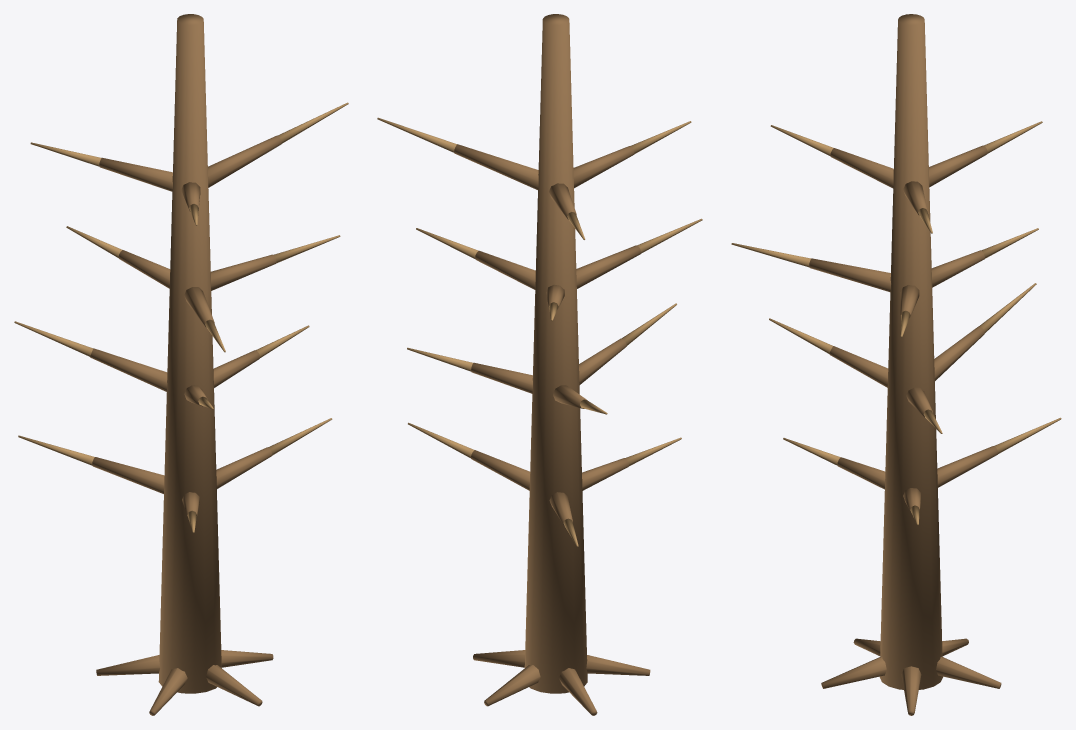
The model's file is dry_tree_a.glb.
3 renders of one model, left to right at view 1: azimuth 30°, elevation 25°; view 2: azimuth 150°, elevation 25°; view 3: azimuth 270°, elevation 25°, orthographic.
Visible parts, largest first — view 1: dry_tree_a_trunk, dry_tree_a_branch_3_0_a, dry_tree_a_branch_1_1_a, dry_tree_a_branch_3_1_a, dry_tree_a_branch_0_1_a, dry_tree_a_branch_2_0_a, dry_tree_a_branch_0_0_a, root_4, root_2, dry_tree_a_branch_2_1_a, root_3, dry_tree_a_branch_1_0_a (+2 smaller); view 2: dry_tree_a_trunk, dry_tree_a_branch_3_0_a, dry_tree_a_branch_2_2_a, dry_tree_a_branch_3_2_a, dry_tree_a_branch_2_0_a, dry_tree_a_branch_1_0_a, dry_tree_a_branch_0_0_a, root_1, root_3, dry_tree_a_branch_1_2_a, root_2, dry_tree_a_branch_0_2_a (+2 smaller); view 3: dry_tree_a_trunk, dry_tree_a_branch_2_2_a, dry_tree_a_branch_3_2_a, dry_tree_a_branch_0_1_a, dry_tree_a_branch_3_1_a, dry_tree_a_branch_1_2_a, dry_tree_a_branch_1_1_a, root_1, root_4, dry_tree_a_branch_2_1_a, dry_tree_a_branch_0_2_a, root_0.
Part boxes in pixels (box(x1,y1,x2,y2)): dry_tree_a_trunk: box(158, 14, 221, 693); dry_tree_a_branch_3_0_a: box(208, 135, 281, 187); dry_tree_a_branch_1_1_a: box(90, 348, 167, 391); dry_tree_a_branch_3_1_a: box(99, 157, 172, 191); dry_tree_a_branch_0_1_a: box(92, 457, 164, 493); dry_tree_a_branch_2_0_a: box(210, 254, 276, 290); dry_tree_a_branch_0_0_a: box(216, 447, 272, 488); root_4: box(206, 665, 262, 706); root_2: box(96, 655, 159, 675); dry_tree_a_branch_2_1_a: box(118, 250, 170, 288); root_3: box(149, 668, 187, 715); dry_tree_a_branch_1_0_a: box(213, 350, 259, 387); dry_tree_a_trunk: box(524, 14, 587, 693); dry_tree_a_branch_3_0_a: box(454, 144, 538, 189); dry_tree_a_branch_2_2_a: box(576, 245, 640, 288); dry_tree_a_branch_3_2_a: box(573, 146, 634, 188); dry_tree_a_branch_2_0_a: box(475, 250, 535, 289); dry_tree_a_branch_1_0_a: box(471, 362, 532, 393); dry_tree_a_branch_0_0_a: box(470, 450, 530, 490); root_1: box(484, 665, 540, 706); root_3: box(586, 655, 650, 675); dry_tree_a_branch_1_2_a: box(579, 338, 626, 384); root_2: box(559, 668, 597, 715); dry_tree_a_branch_0_2_a: box(582, 458, 628, 490); dry_tree_a_trunk: box(879, 14, 942, 689); dry_tree_a_branch_2_2_a: box(809, 258, 890, 291); dry_tree_a_branch_3_2_a: box(830, 148, 893, 188); dry_tree_a_branch_0_1_a: box(937, 446, 997, 487); dry_tree_a_branch_3_1_a: box(929, 145, 987, 187); dry_tree_a_branch_1_2_a: box(829, 346, 888, 387); dry_tree_a_branch_1_1_a: box(934, 326, 984, 380); root_1: box(936, 657, 1001, 688); root_4: box(821, 656, 886, 688); dry_tree_a_branch_2_1_a: box(931, 250, 984, 287); dry_tree_a_branch_0_2_a: box(837, 457, 885, 489); root_0: box(901, 666, 921, 715).
Bounding box in the file's own units: 2.17 × 4.85 × 2.21.
